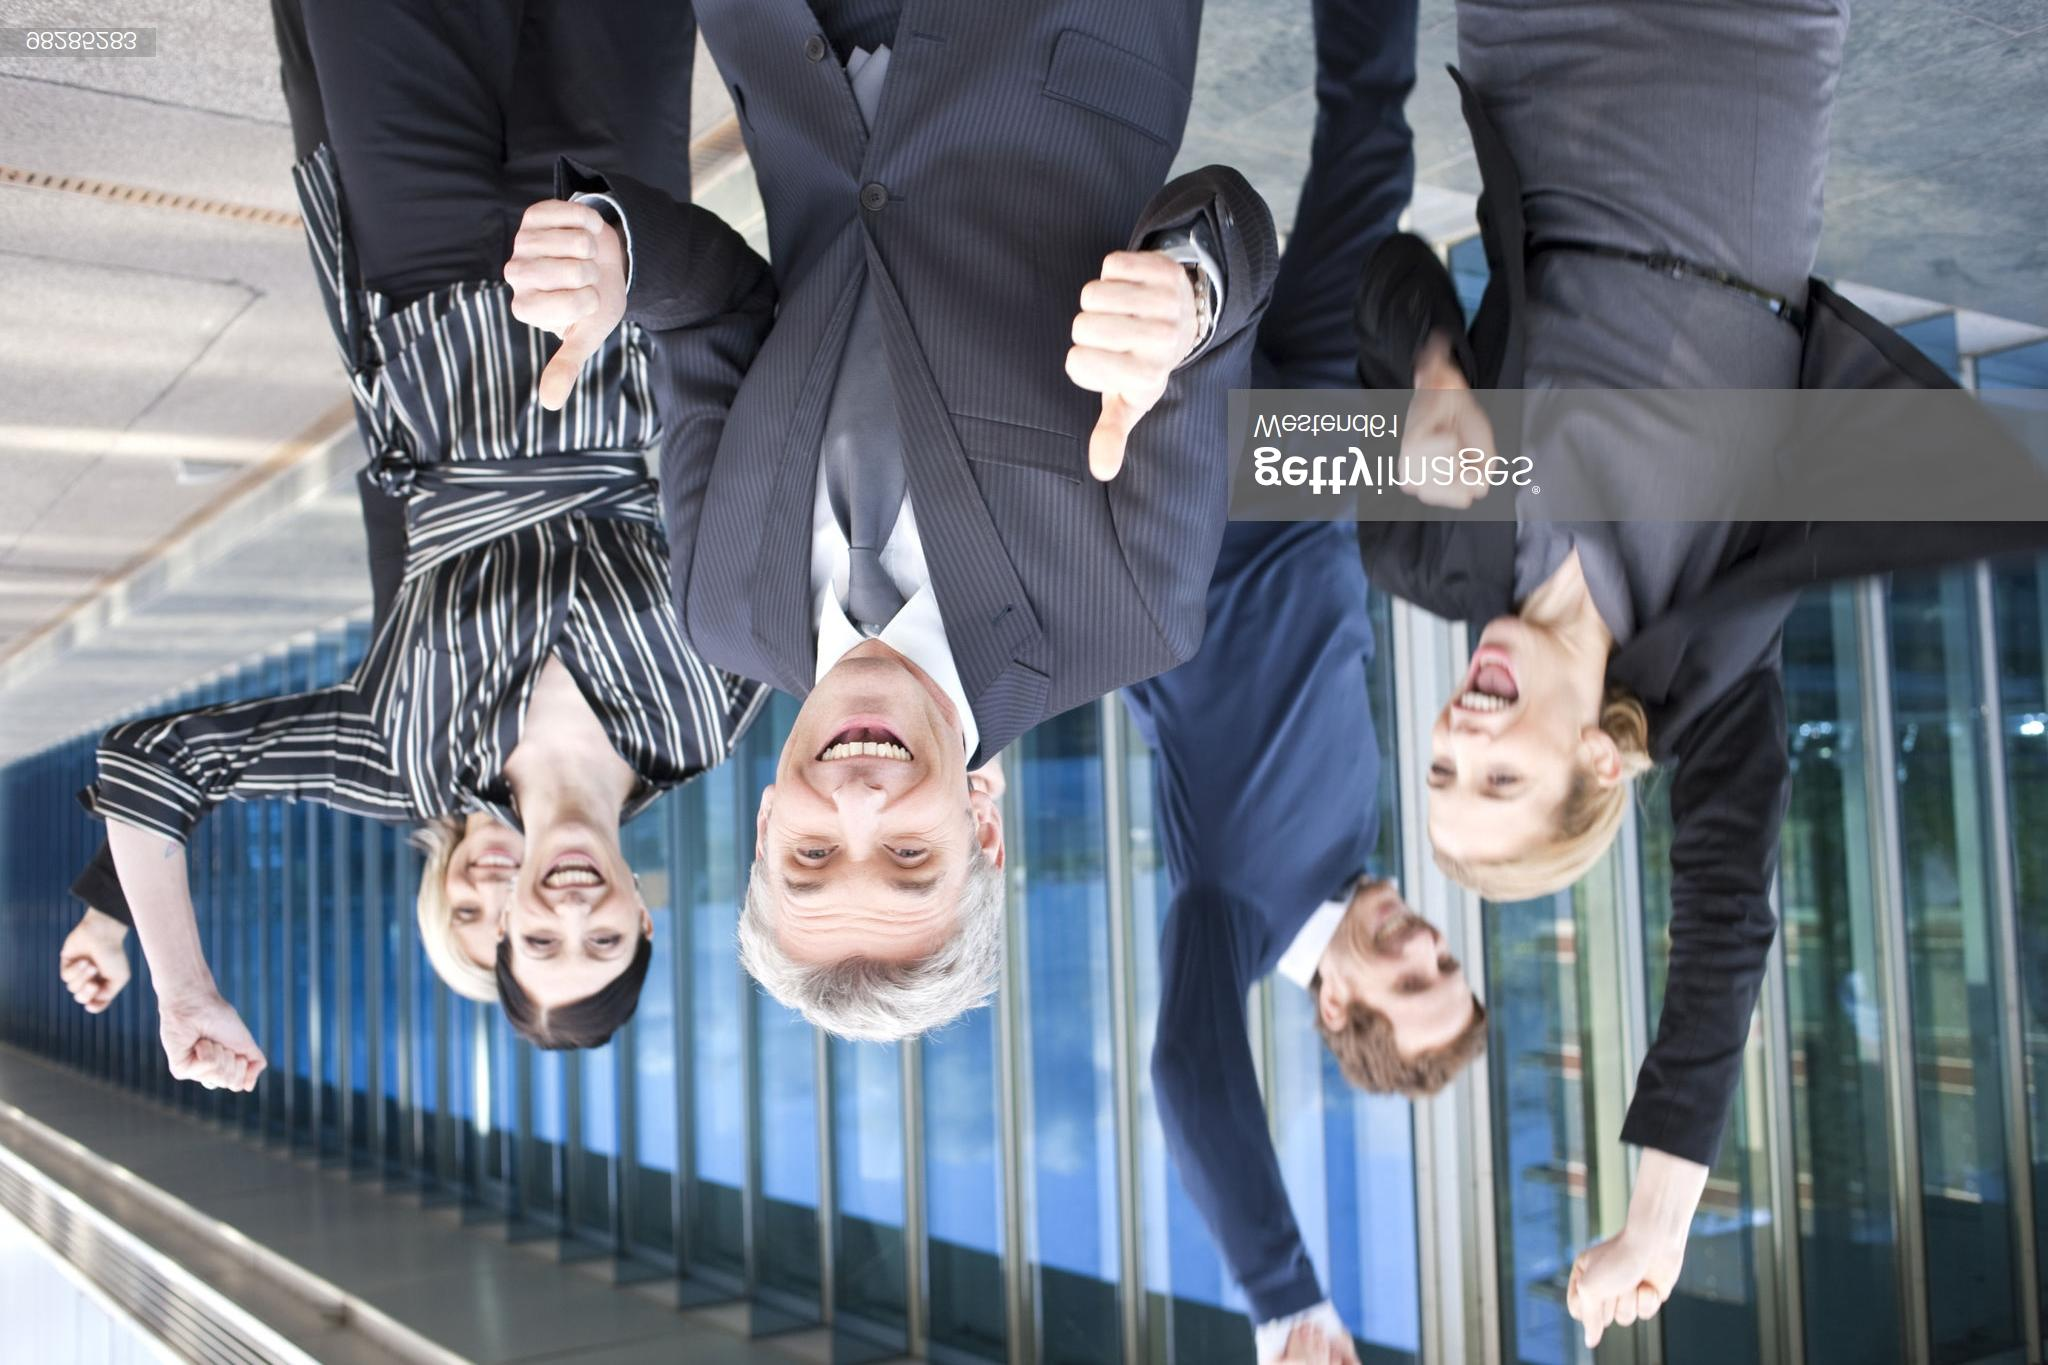thumbsdown: (1064, 251, 1186, 481), (502, 200, 605, 411)
